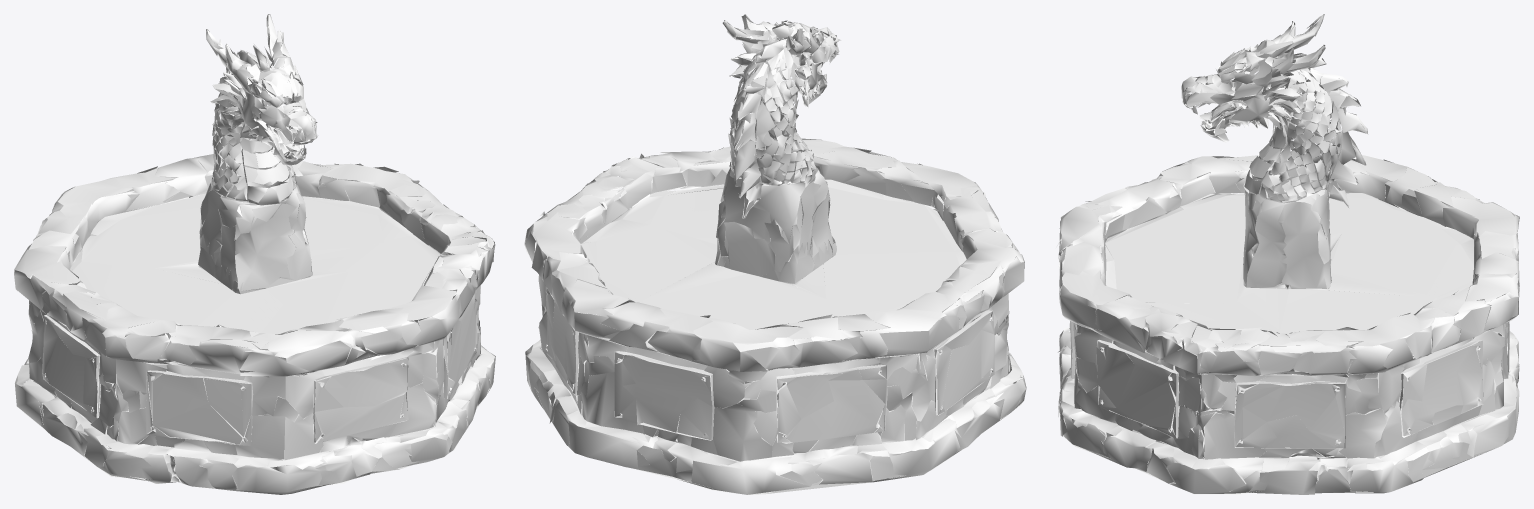
The model's file is fountain_dragon_lod1.glb.
The picture shows the model from 3 angles, left to right: view 1: azimuth 30°, elevation 25°; view 2: azimuth 150°, elevation 25°; view 3: azimuth 270°, elevation 25°; orthographic projection. The views are drawn at different scales.
Parts seen in each view (by area): view 1: fountain_dragon; view 2: fountain_dragon; view 3: fountain_dragon.
Boxes of the visible parts, bbox=[...] form: fountain_dragon: bbox=[14, 14, 495, 494]; fountain_dragon: bbox=[524, 14, 1026, 494]; fountain_dragon: bbox=[1056, 14, 1519, 494].
Size of the model in its own units: 4.78 by 4.22 by 4.8.
1 material, 1 textured.
